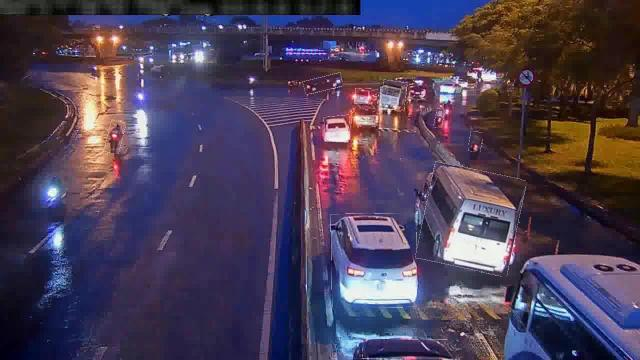Bike: (106, 120, 124, 154), (469, 132, 483, 152), (435, 108, 445, 128)
Bus: (420, 165, 522, 272)
Car: (331, 212, 417, 308), (353, 339, 454, 360), (324, 116, 350, 140), (304, 76, 342, 92), (439, 80, 463, 96), (356, 88, 378, 104)
Truck: (381, 80, 407, 110)
